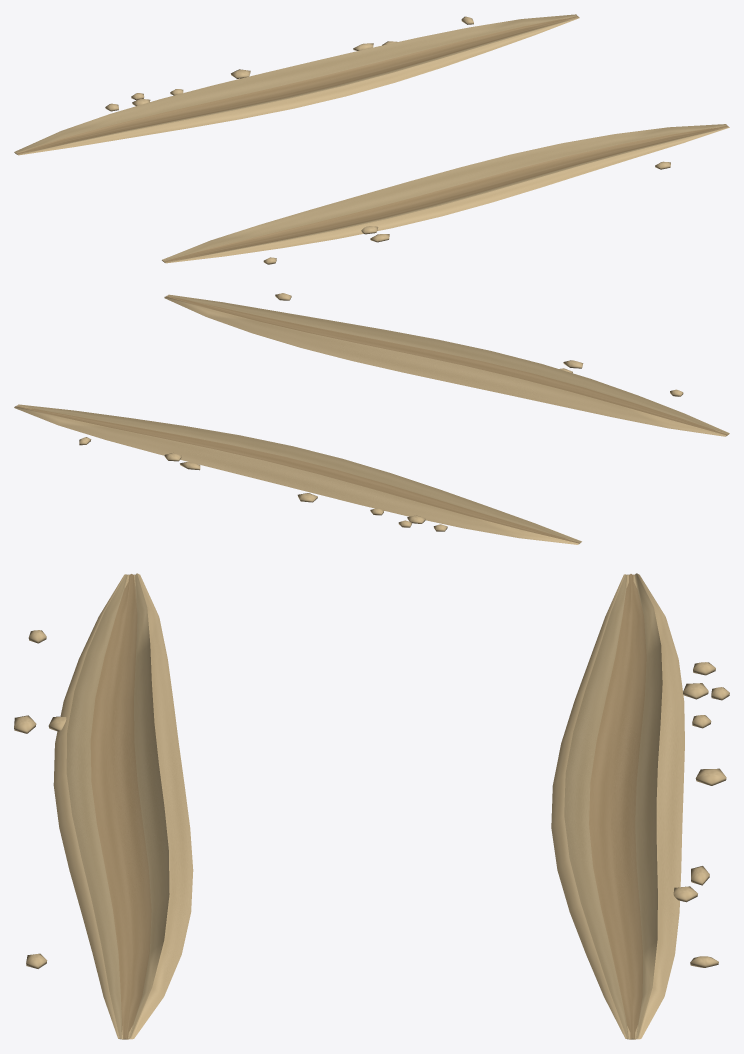
The model's file is SM_SkiffDrag.fbx.
The picture shows the model from 3 angles, top to bottom: view 1: azimuth 30°, elevation 25°; view 2: azimuth 150°, elevation 25°; view 3: azimuth 270°, elevation 25°; orthographic projection. The views are drawn at different scales.
Parts seen in each view (by area): view 1: SM_SkiffDrag; view 2: SM_SkiffDrag; view 3: SM_SkiffDrag.
Boxes of the visible parts, x1,y1,x2,y2 form: SM_SkiffDrag: (14,14,729,264); SM_SkiffDrag: (14,293,729,544); SM_SkiffDrag: (14,573,729,1039).
Size of the model in its own units: 110 by 71.67 by 2.53.
Materials: 1 (1 with a texture image).
